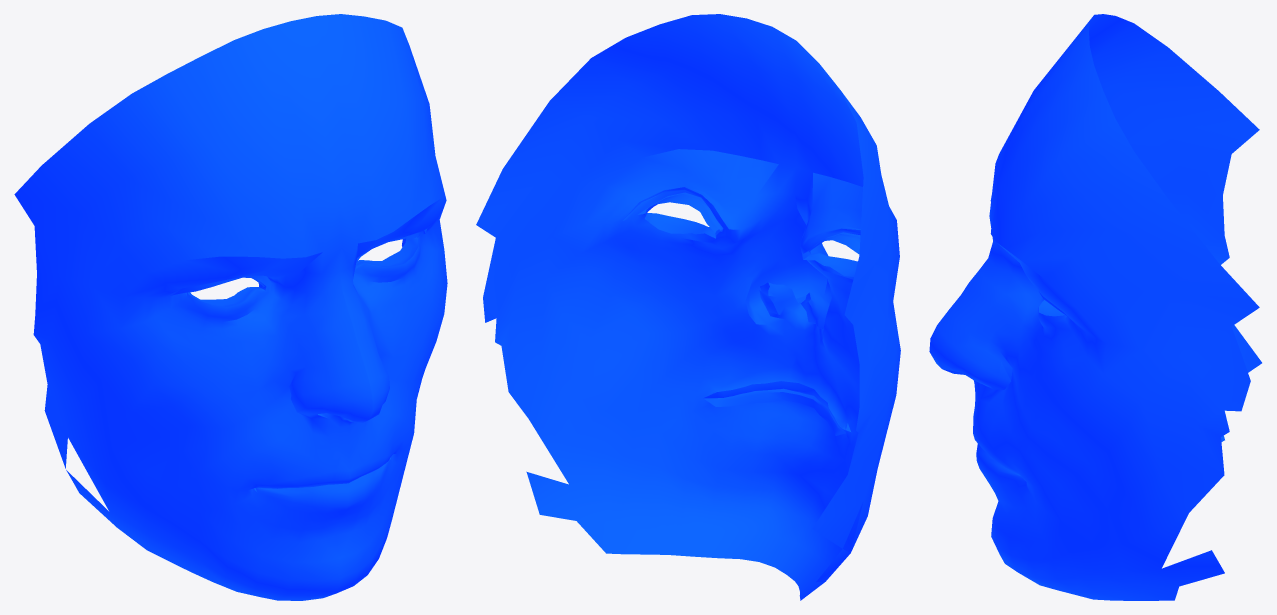
The model's file is male_head.glb.
3 views of the same model, side by side, from view 1: azimuth 30°, elevation 25°; view 2: azimuth 150°, elevation 25°; view 3: azimuth 270°, elevation 25° (orthographic). The views are drawn at different scales.
Parts seen in each view (by area): view 1: Object_2; view 2: Object_2; view 3: Object_2.
Part boxes in pixels (x1,y1,x2,y2): Object_2: (14,14,447,600); Object_2: (476,14,900,600); Object_2: (929,14,1261,600).
Size of the model in its own units: 2.29 by 3.28 by 1.81.
